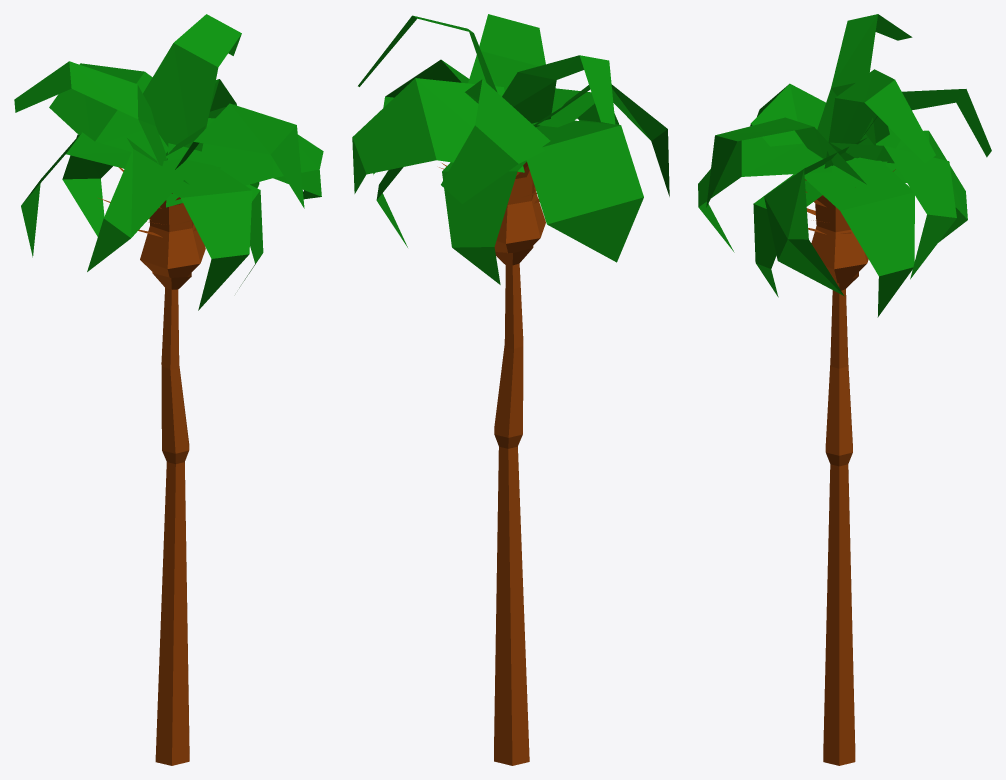
File: palm.obj
3 renders of one model, left to right at view 1: azimuth 30°, elevation 25°; view 2: azimuth 150°, elevation 25°; view 3: azimuth 270°, elevation 25°, orthographic. The views are drawn at different scales.
Visible parts, largest first — view 1: ghz03_palmA_02.003; view 2: ghz03_palmA_02.003; view 3: ghz03_palmA_02.003.
Part boxes in pixels (left/top/right/bottom): ghz03_palmA_02.003: left=14, top=14, right=323, bottom=765; ghz03_palmA_02.003: left=352, top=14, right=669, bottom=765; ghz03_palmA_02.003: left=698, top=14, right=991, bottom=765.
Bounding box in the file's own units: 4.78 × 11.78 × 4.43.
